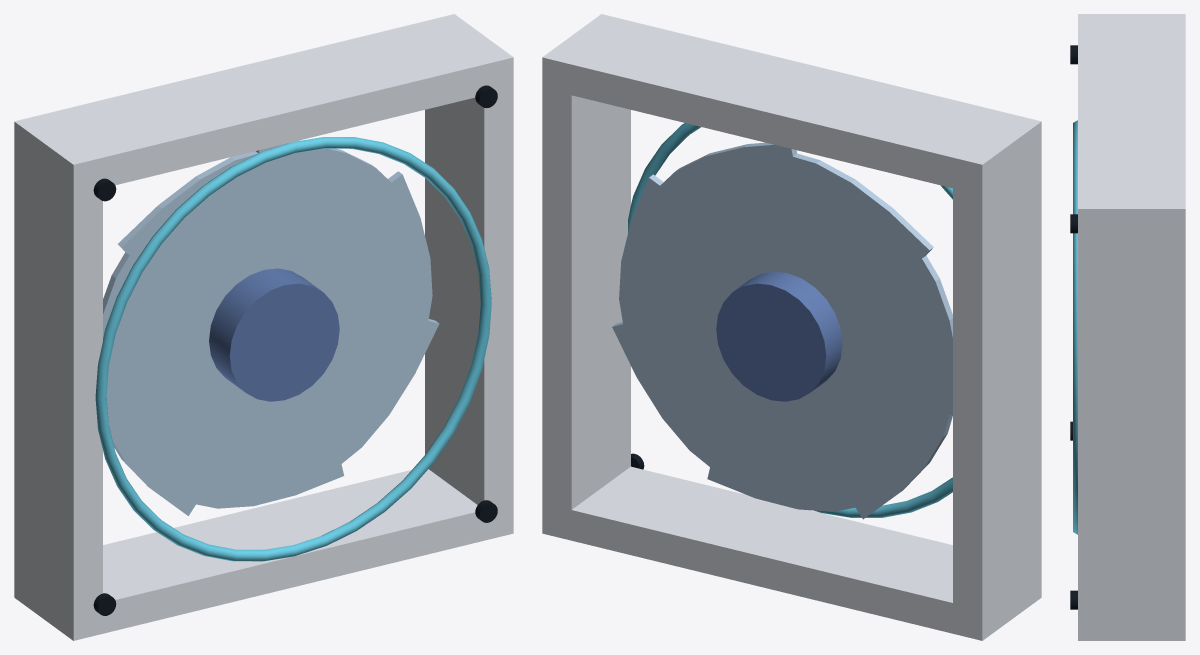
The model's file is retail-lian-li-uni-fan-tl-120-lcd-reverse-blade-wireless-white.glb.
The picture shows the model from 3 angles, left to right: view 1: azimuth 30°, elevation 25°; view 2: azimuth 150°, elevation 25°; view 3: azimuth 270°, elevation 25°; orthographic projection. The views are drawn at different scales.
Visible parts, largest first — view 1: Frame edge (×4), Blade (×7), Intake rim, Motor hub; view 2: Frame edge (×4), Blade (×7), Motor hub, Intake rim; view 3: Frame edge (×3), Intake rim.
Part boxes in pixels (x1,y1,x2,y2): Frame edge (×4): [14, 14, 513, 640]; Blade (×7): [103, 140, 439, 515]; Intake rim: [95, 137, 491, 561]; Motor hub: [209, 268, 339, 401]; Frame edge (×4): [542, 14, 1041, 640]; Blade (×7): [612, 142, 952, 519]; Motor hub: [716, 271, 842, 401]; Intake rim: [628, 123, 952, 517]; Frame edge (×3): [1078, 14, 1185, 640]; Intake rim: [1073, 120, 1077, 534].
Bounding box in the file's own units: 0.12 × 0.124 × 0.03.
